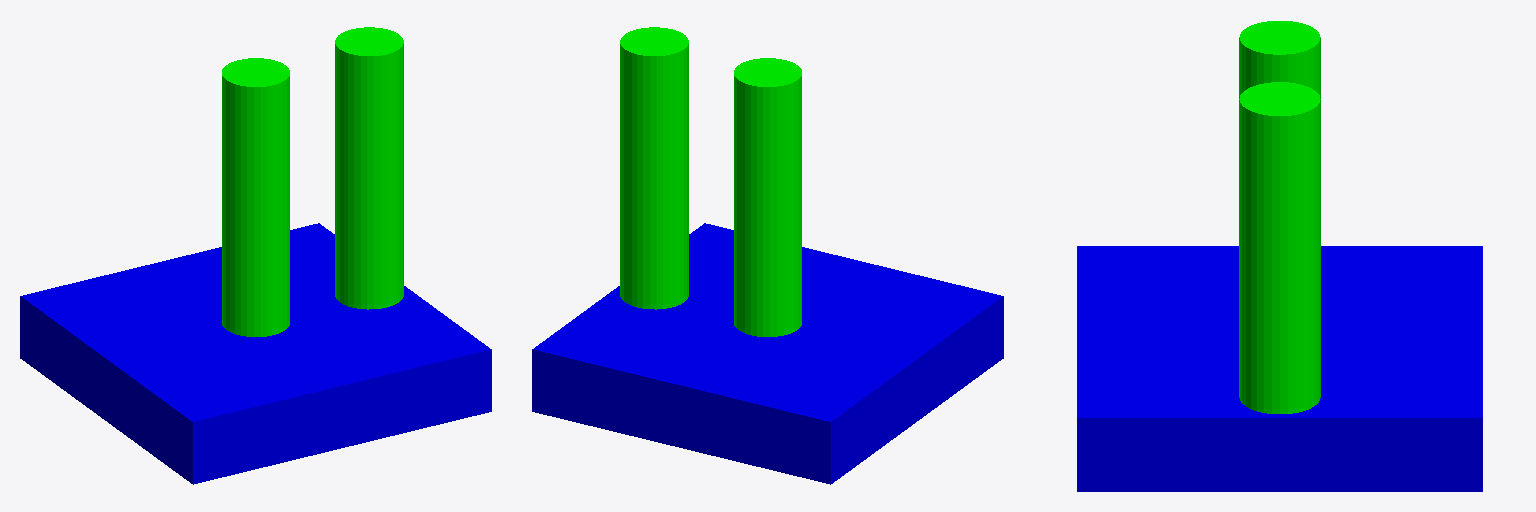
robot.urdf — multiple_visual:
<robot name="multiple_visual">
    <material name="blue">
        <color rgba="0.0 0.0 1.0 1.0"/>
    </material>
    <material name="yellow">
        <color rgba="1.0 1.0 0.0 0.0"/>
    </material>

    <link name="base_link">
        <visual name="box">
            <origin xyz="0.0 0.0 0.05" rpy="0.0 0.0 0.0"/>
            <geometry>
                <box size="0.5 0.5 0.1"/>
            </geometry>
            <material name="blue"/>
        </visual>
        <collision name="box">
            <origin xyz="0.0 0.0 0.05" rpy="0.0 0.0 0.0"/>
            <geometry>
                <box size="0.5 0.5 0.1"/>
            </geometry>
        </collision>
        <visual name="cylinder">
            <origin xyz="0.0 0.0 0.25" rpy="0.0 0.0 0.0"/>
            <geometry>
                <cylinder radius="0.05" length="0.5"/>
            </geometry>
            <material>
                <color rgba="0.0 1.0 0.0 1.0"/>
            </material>
        </visual>
        <collision name="cylinder">
            <origin xyz="0.0 0.0 0.25" rpy="0.0 0.0 0.0"/>
            <geometry>
                <cylinder radius="0.05" length="0.5"/>
            </geometry>
        </collision>

        <visual name="cylinder2">
            <origin xyz="0.19 0.0 0.255" rpy="0.0 0.0 0.0"/>
            <geometry>
                <cylinder radius="0.05" length="0.5"/>
            </geometry>
            <material>
                <color rgba="0.0 1.0 0.0 1.0"/>
            </material>
        </visual>
        <collision name="cylinder2">
            <origin xyz="0.19 0.0 0.255" rpy="0.0 0.0 0.0"/>
            <geometry>
                <cylinder radius="0.05" length="0.5"/>
            </geometry>
        </collision>
    </link>
</robot>

--- Facts derived from the render (not from the file) ---
The picture shows the robot from 3 angles, left to right: view 1: azimuth 30°, elevation 25°; view 2: azimuth 150°, elevation 25°; view 3: azimuth 270°, elevation 25°; orthographic projection.
Robot: multiple_visual — 1 links, 0 joints (none); root link base_link; default pose: all joints at 0.
Links seen in each view (by area): view 1: base_link; view 2: base_link; view 3: base_link.
Boxes of the visible links, bbox=[...] form: base_link: bbox=[20, 27, 491, 484]; base_link: bbox=[532, 27, 1003, 484]; base_link: bbox=[1077, 21, 1482, 491].
Size in the robot's own frame: 0.5 by 0.5 by 0.505 metres.
Geometry: primitives only (box / cylinder / sphere), no mesh files.